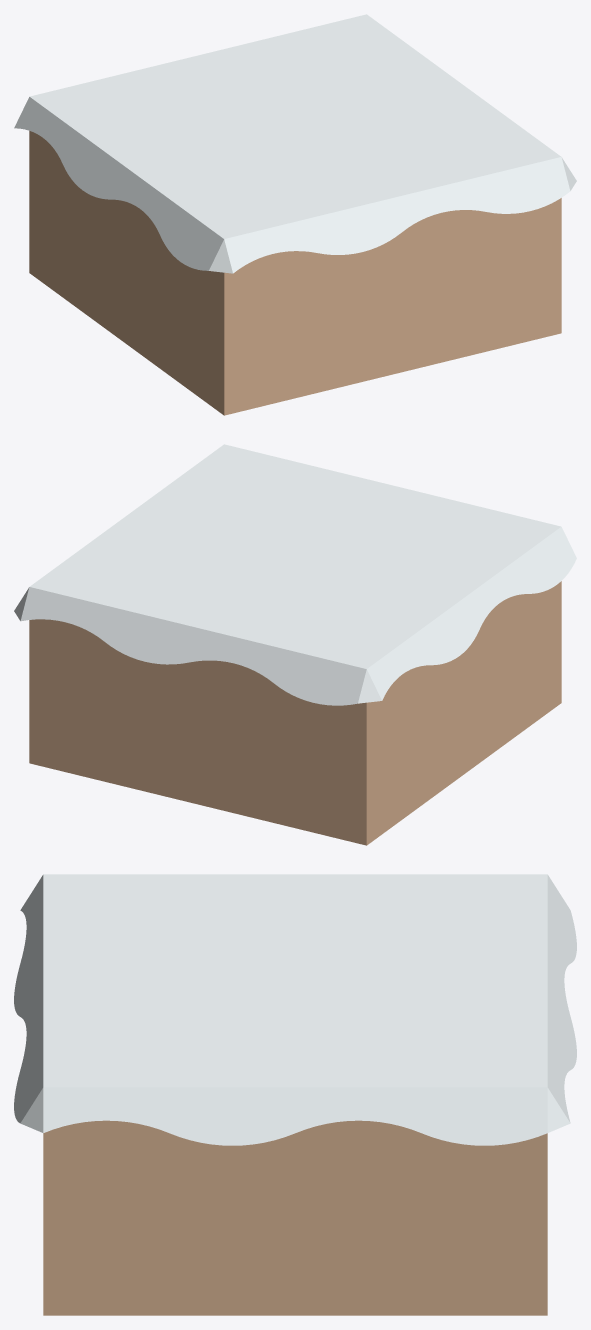
3 renders of one model, top to bottom at view 1: azimuth 30°, elevation 25°; view 2: azimuth 150°, elevation 25°; view 3: azimuth 270°, elevation 25°, orthographic. The views are drawn at different scales.
Parts seen in each view (by area): view 1: blockSnowLarge; view 2: blockSnowLarge; view 3: blockSnowLarge.
Part boxes in pixels (x1,y1,x2,y2): blockSnowLarge: (14,14,576,415); blockSnowLarge: (14,444,576,845); blockSnowLarge: (14,874,576,1315).
Size of the model in its own units: 2.23 by 1 by 2.23.
